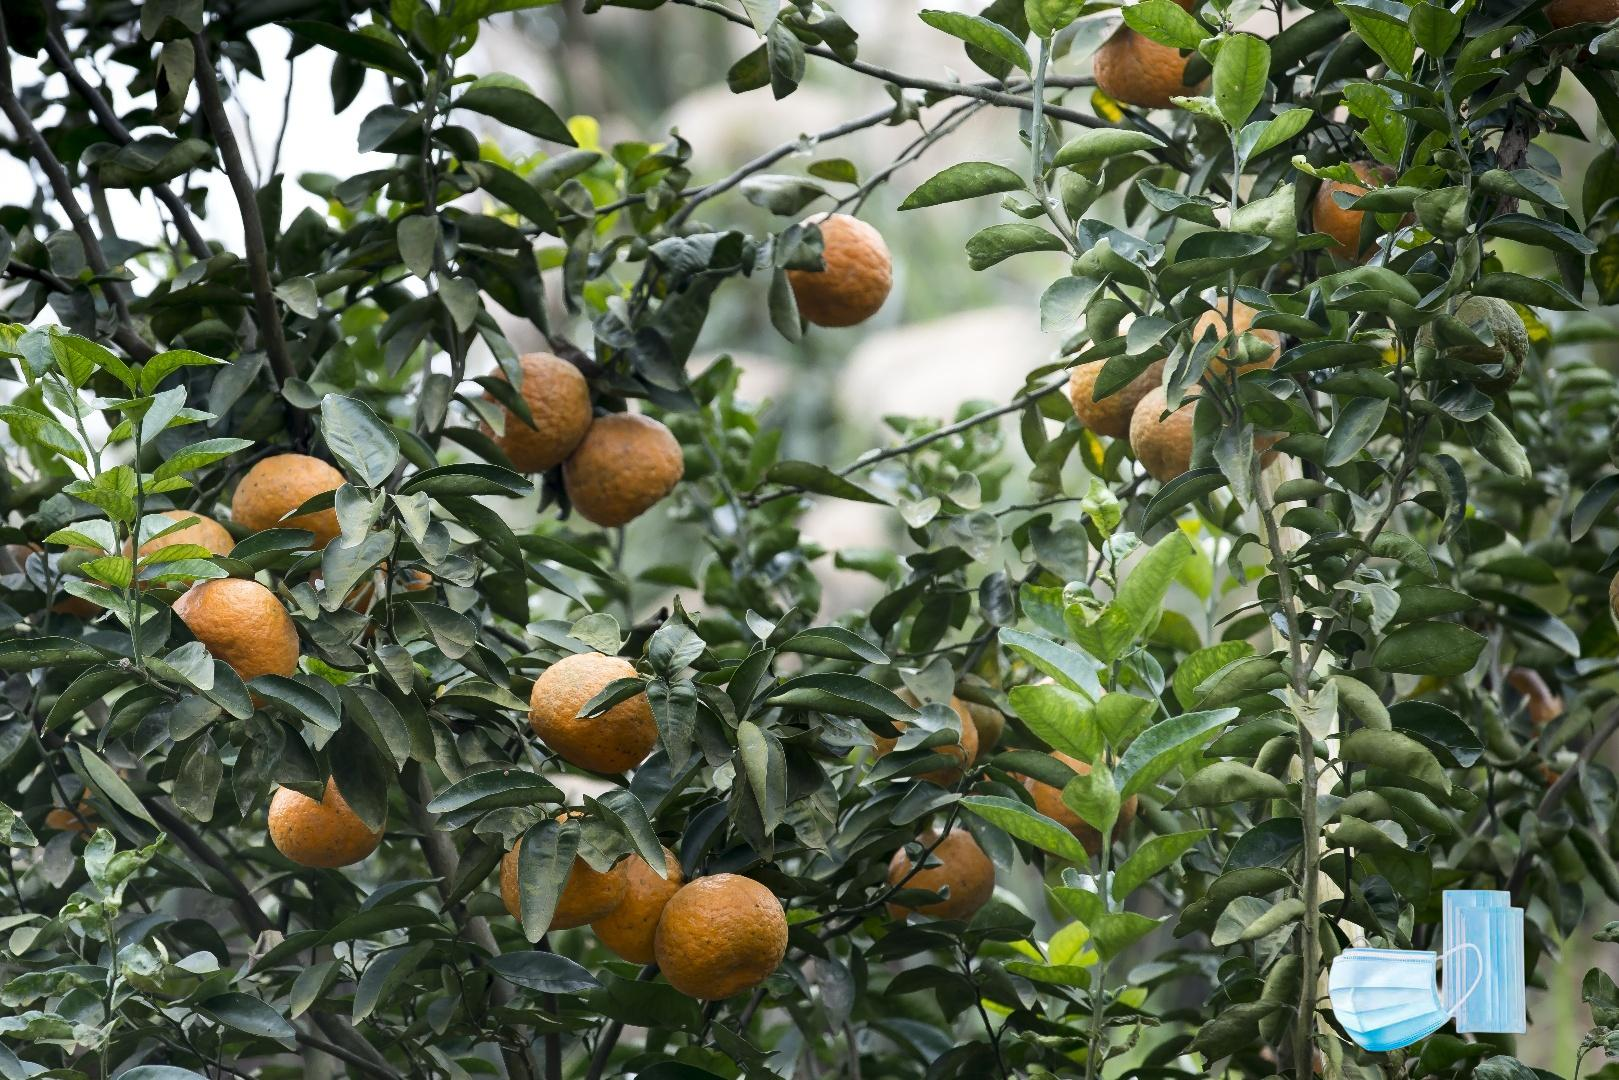trash: (1325, 887, 1530, 1055)
